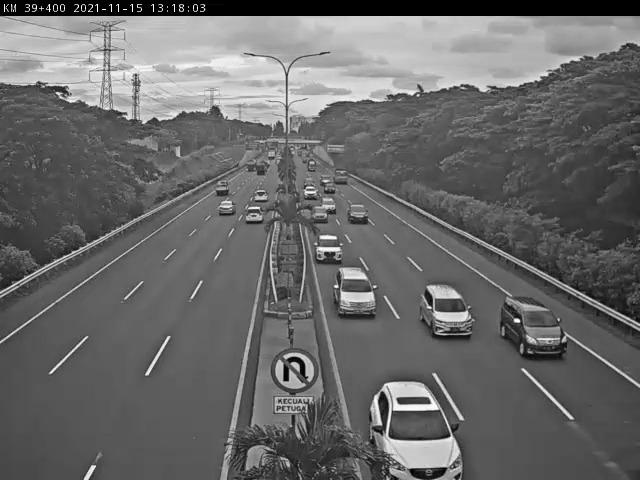car: (366, 379, 463, 480), (498, 295, 570, 360), (417, 282, 477, 341), (330, 265, 378, 319), (314, 233, 344, 264), (346, 203, 370, 225), (243, 205, 266, 227), (310, 204, 331, 226), (218, 199, 237, 218)
